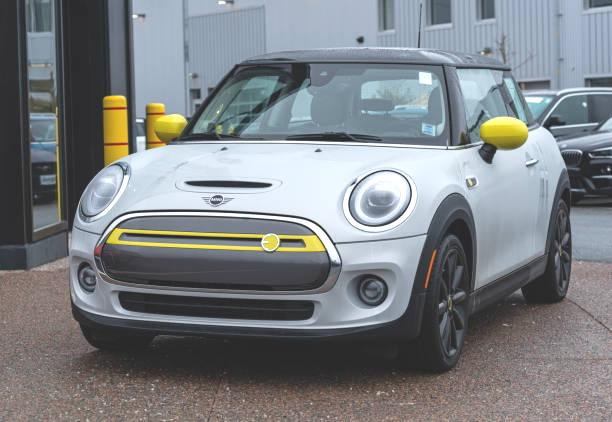mini: (192, 186, 249, 221)
